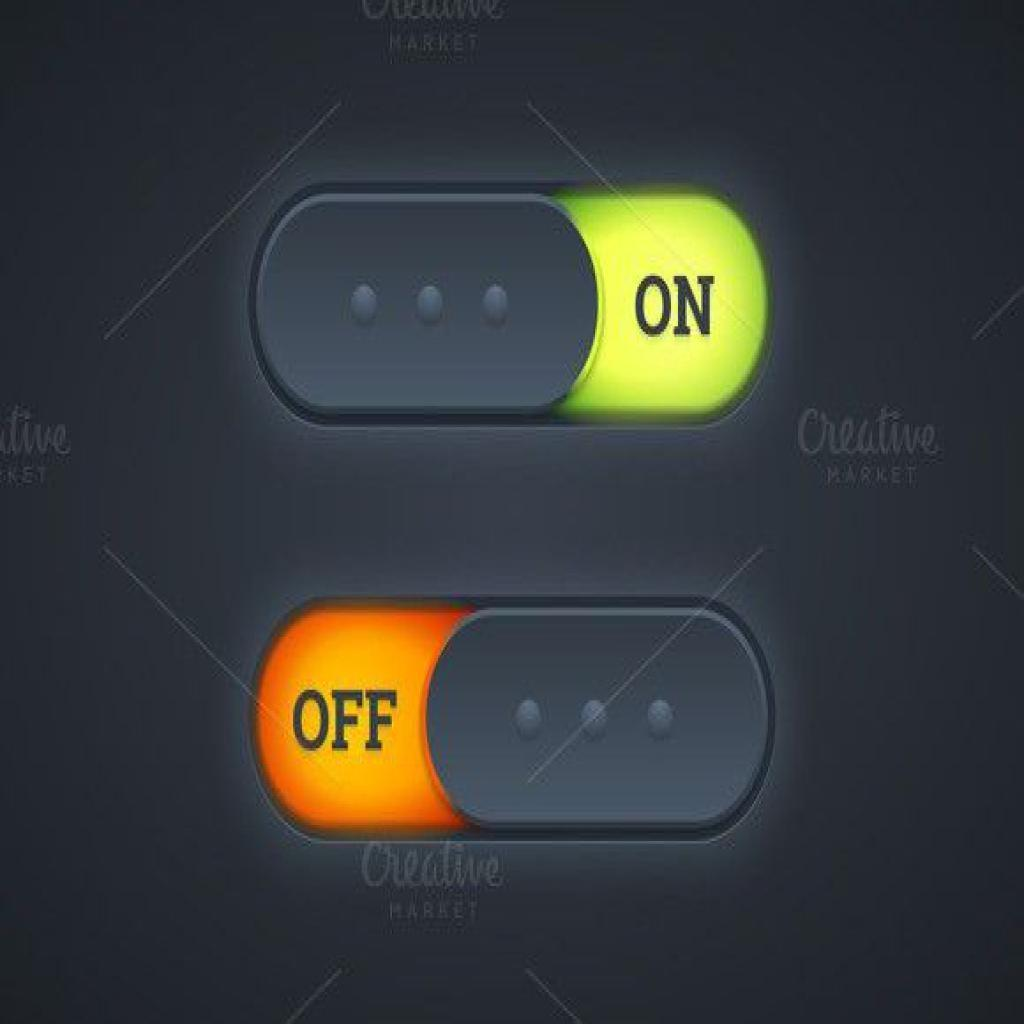switch: (245, 591, 778, 842), (248, 181, 779, 430)
